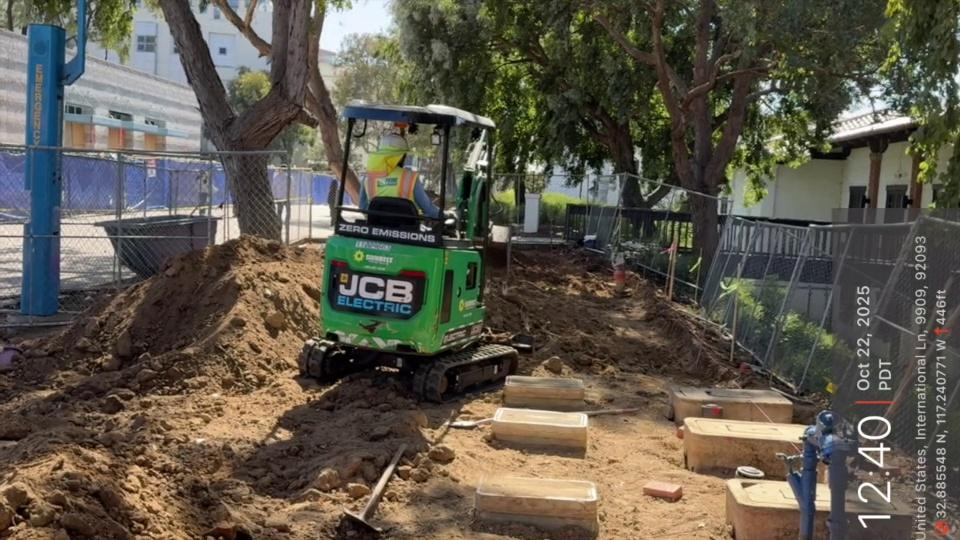Exacavator: (296, 98, 533, 403)
